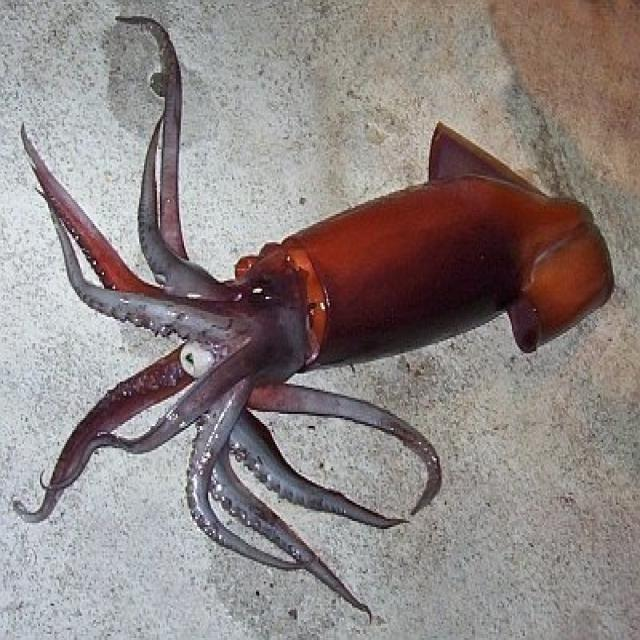SQUID: (8, 62, 640, 542)
